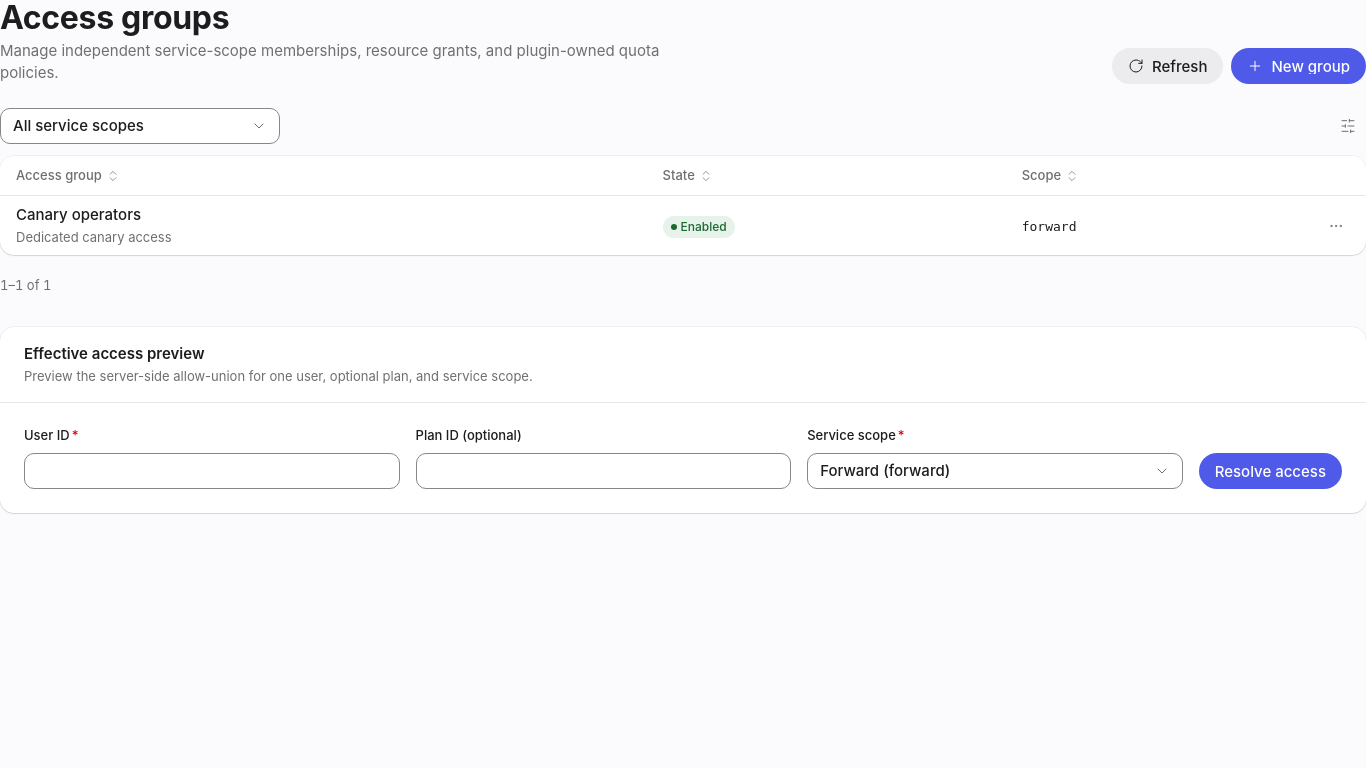
Test: AccessGroups.vue › dialogs and feedback › keeps editor errors inside the dialog and closes it with Esc
Expected: the text "Canary operators" is shown, [16, 205, 141, 224]
Step 1. Click the button "New group" → point(1299, 66), box [1232, 48, 1365, 84]
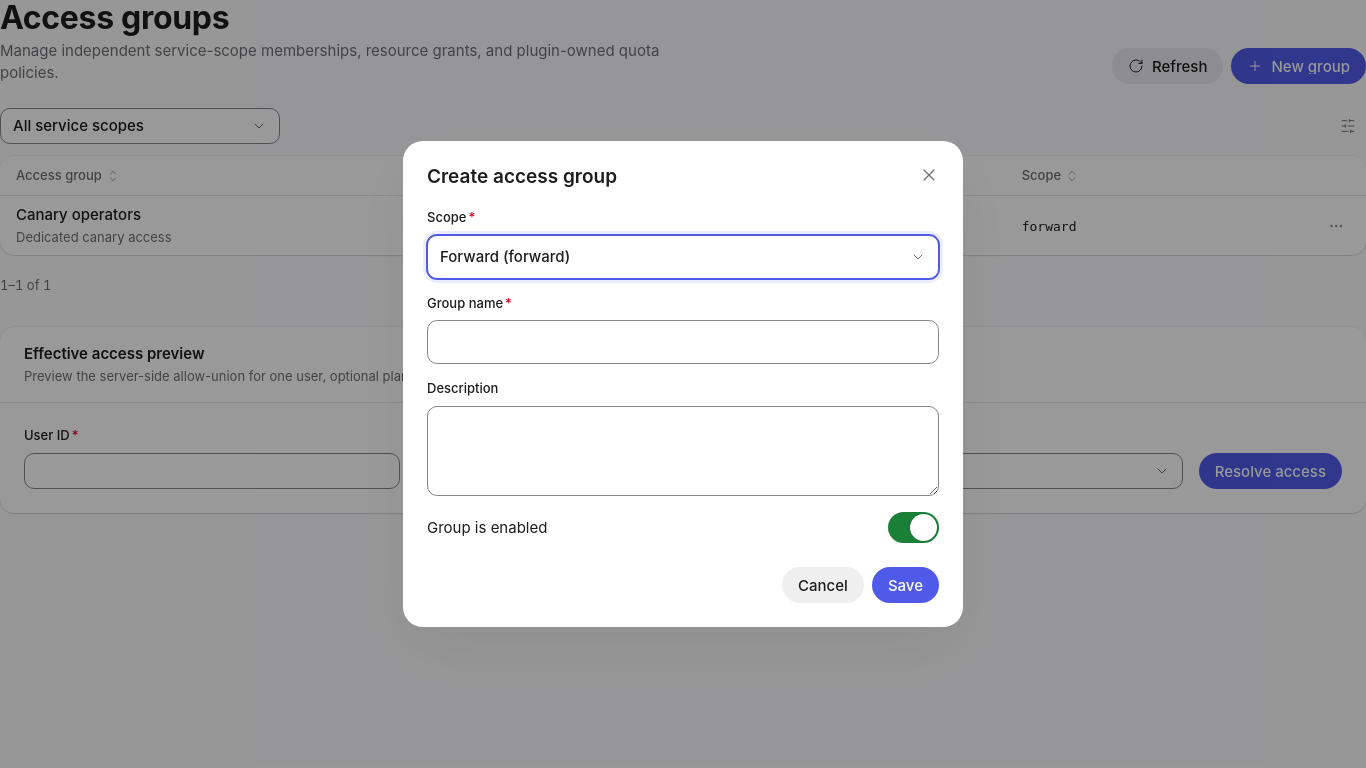
Step 2. Type "Dup" into the field labelled "Group name *" → point(683, 342), box [428, 321, 938, 363]
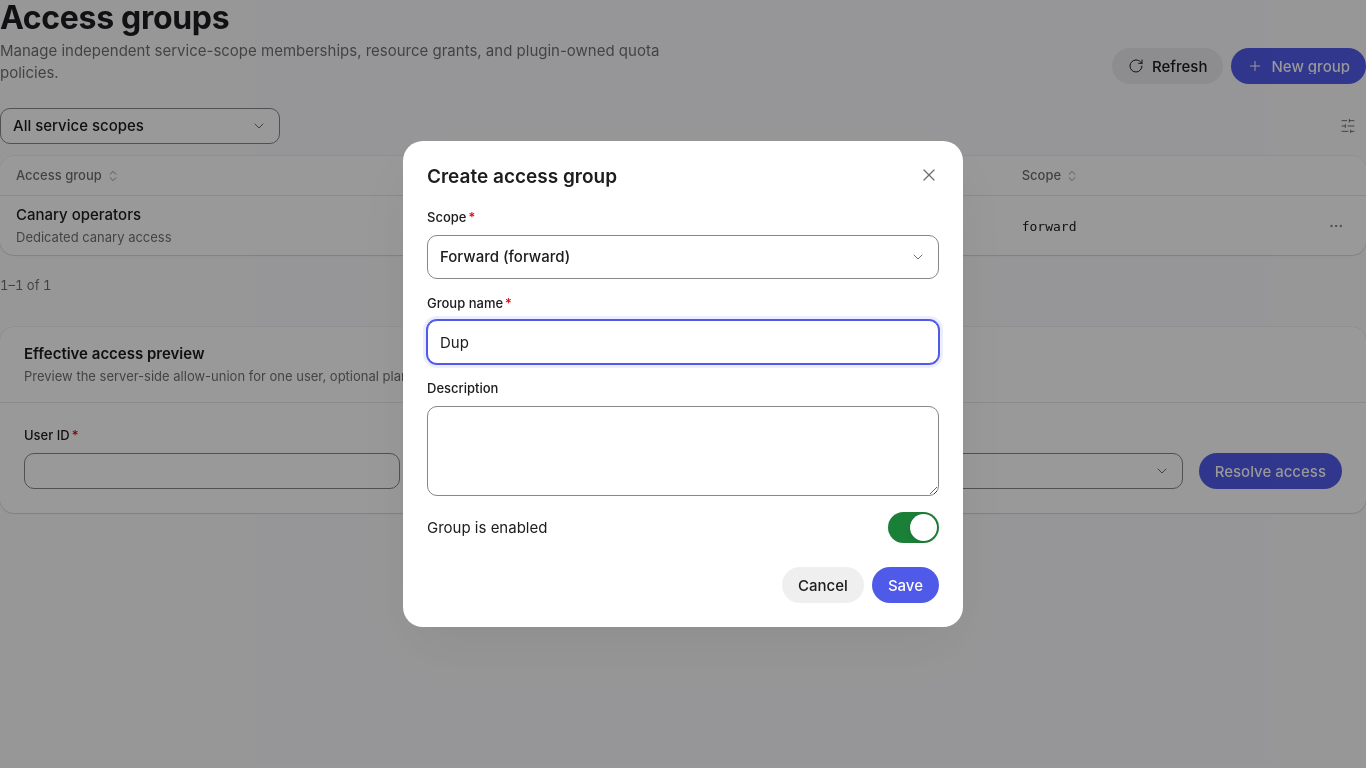
Step 3. Click the button "Save" → point(905, 585), box [872, 567, 939, 603]
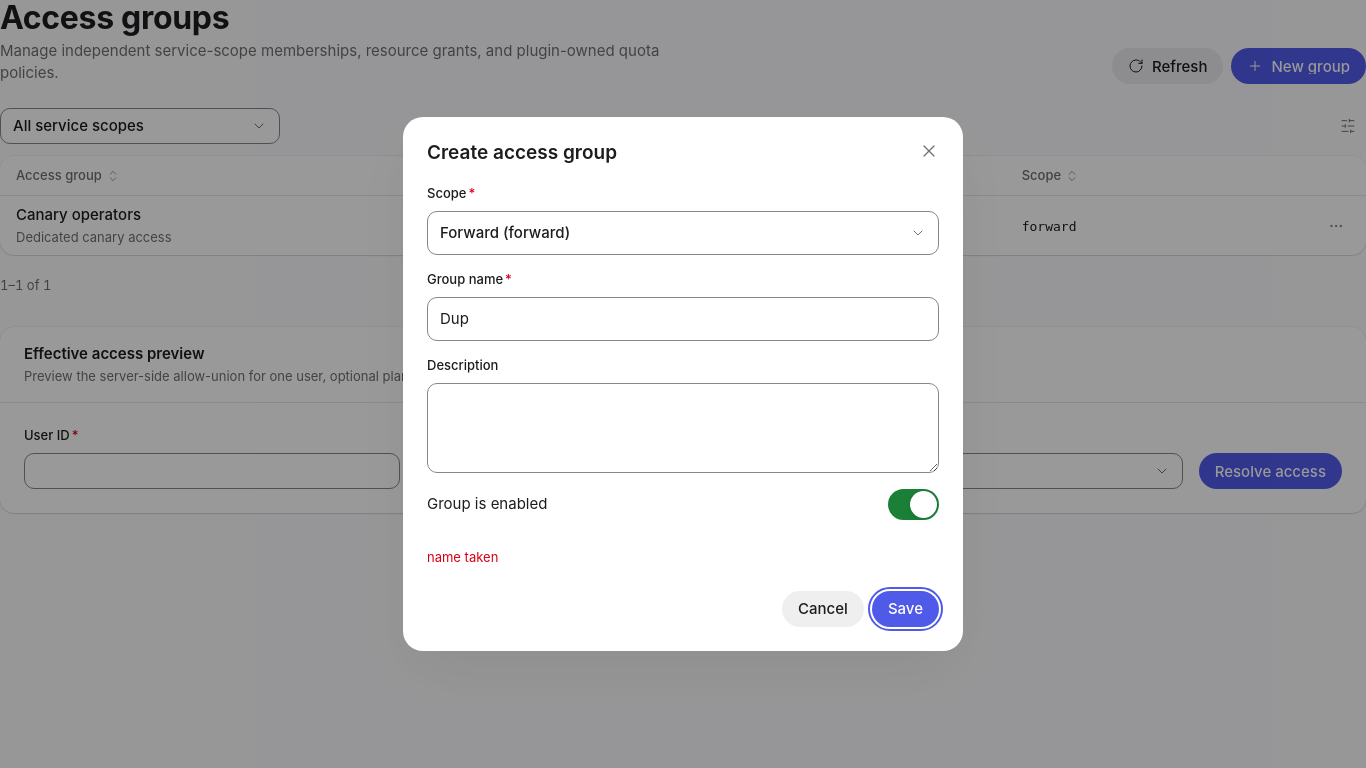
Expected: the message reads "name taken", [427, 549, 498, 565]
Step 4. Press Escape
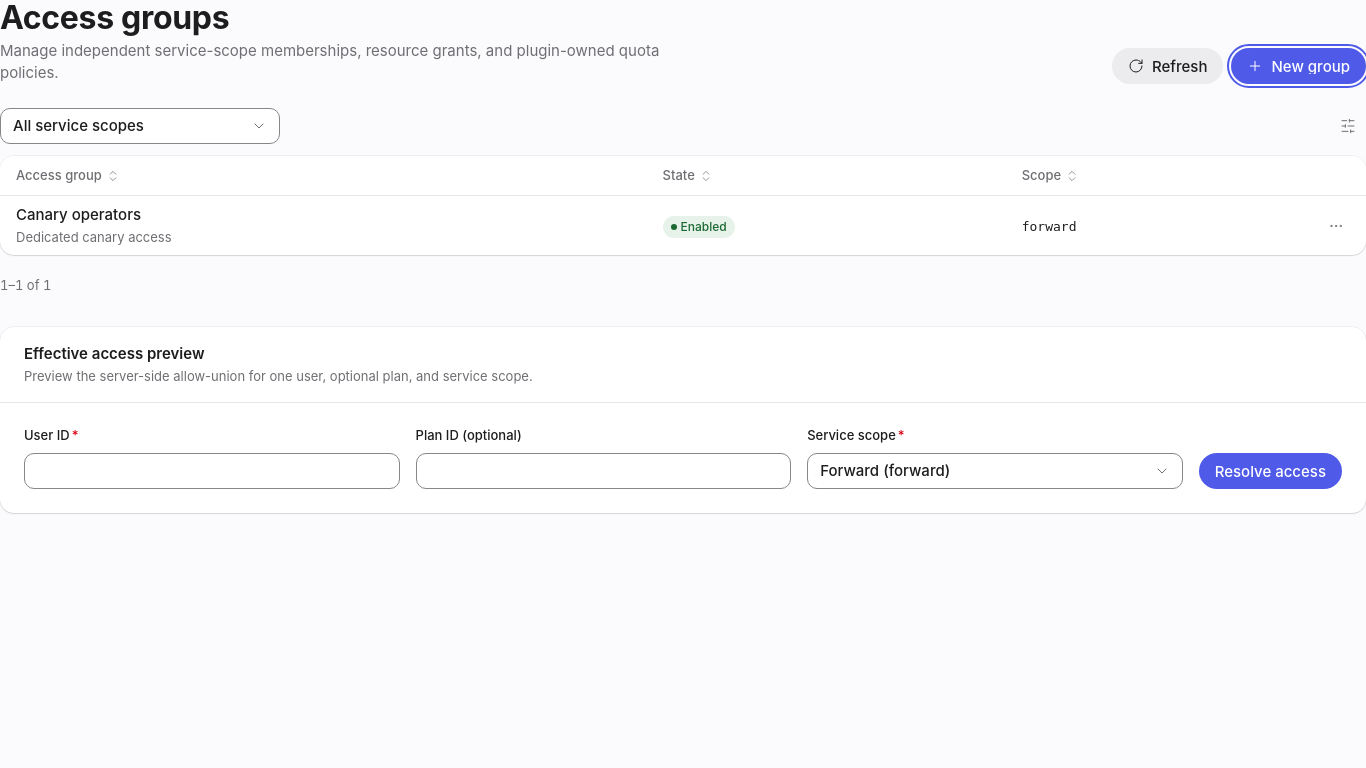
Expected: the dialog is gone
